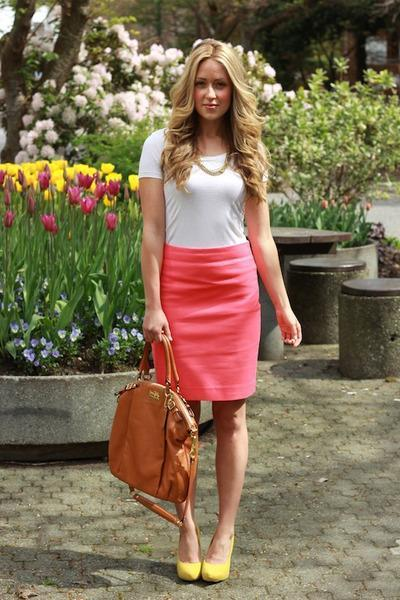bag: (107, 372, 199, 528)
shirt: (138, 128, 250, 251)
shoe: (171, 551, 229, 579)
skirt: (143, 244, 272, 402)
